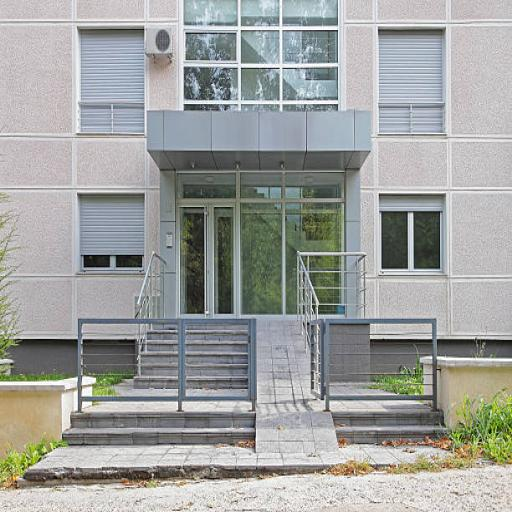ramp: (253, 318, 339, 453)
stairs: (59, 408, 255, 448), (135, 325, 249, 387), (333, 410, 454, 447)
